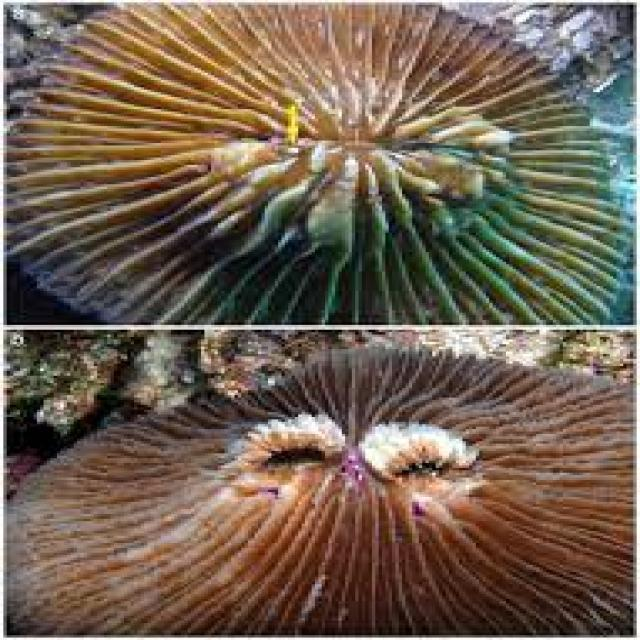Healthy Coral: (10, 0, 617, 325), (15, 349, 636, 636)
